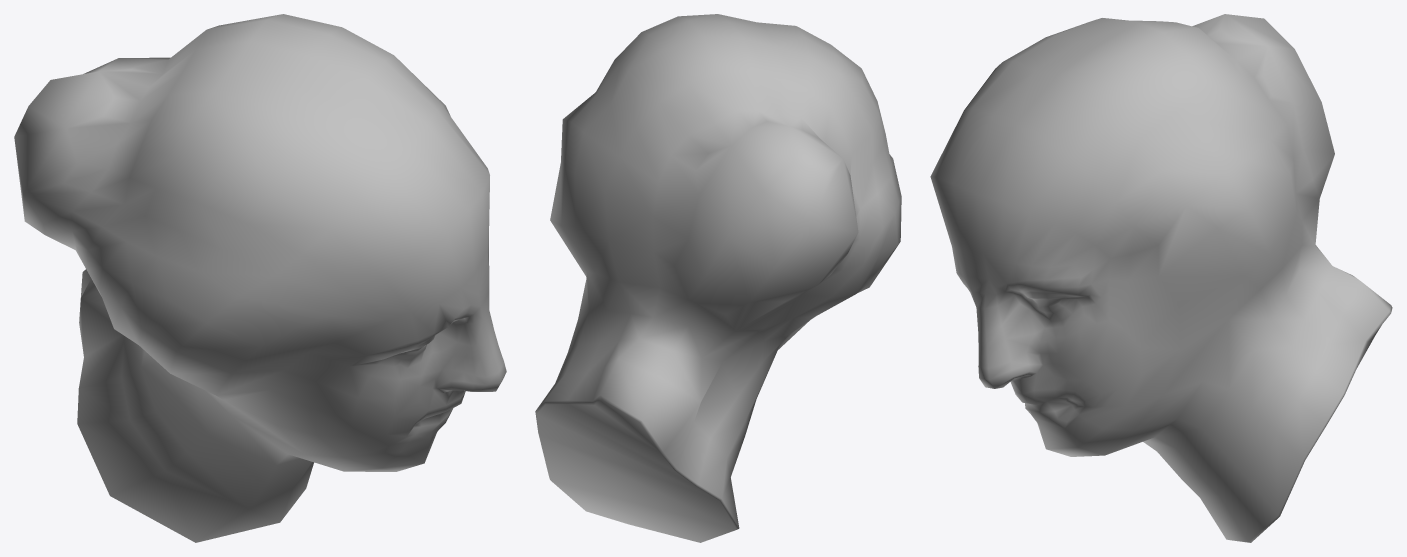
Rendered from Skeeball_VenusHead.glb.
3 renders of one model, left to right at view 1: azimuth 30°, elevation 25°; view 2: azimuth 150°, elevation 25°; view 3: azimuth 270°, elevation 25°, orthographic. The views are drawn at different scales.
Parts seen in each view (by area): view 1: VenusHead; view 2: VenusHead; view 3: VenusHead.
Boxes of the visible parts, x1,y1,x2,y2 form: VenusHead: [14, 14, 506, 542]; VenusHead: [535, 14, 901, 542]; VenusHead: [930, 14, 1392, 542].
Bounding box in the file's own units: 0.5398 × 0.7732 × 0.6653.
Materials: 1 (1 with a texture image).
